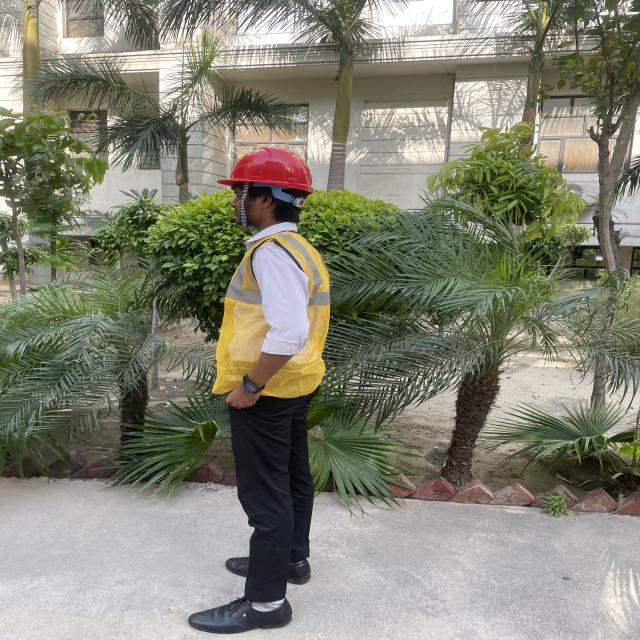safe: (187, 146, 331, 632)
